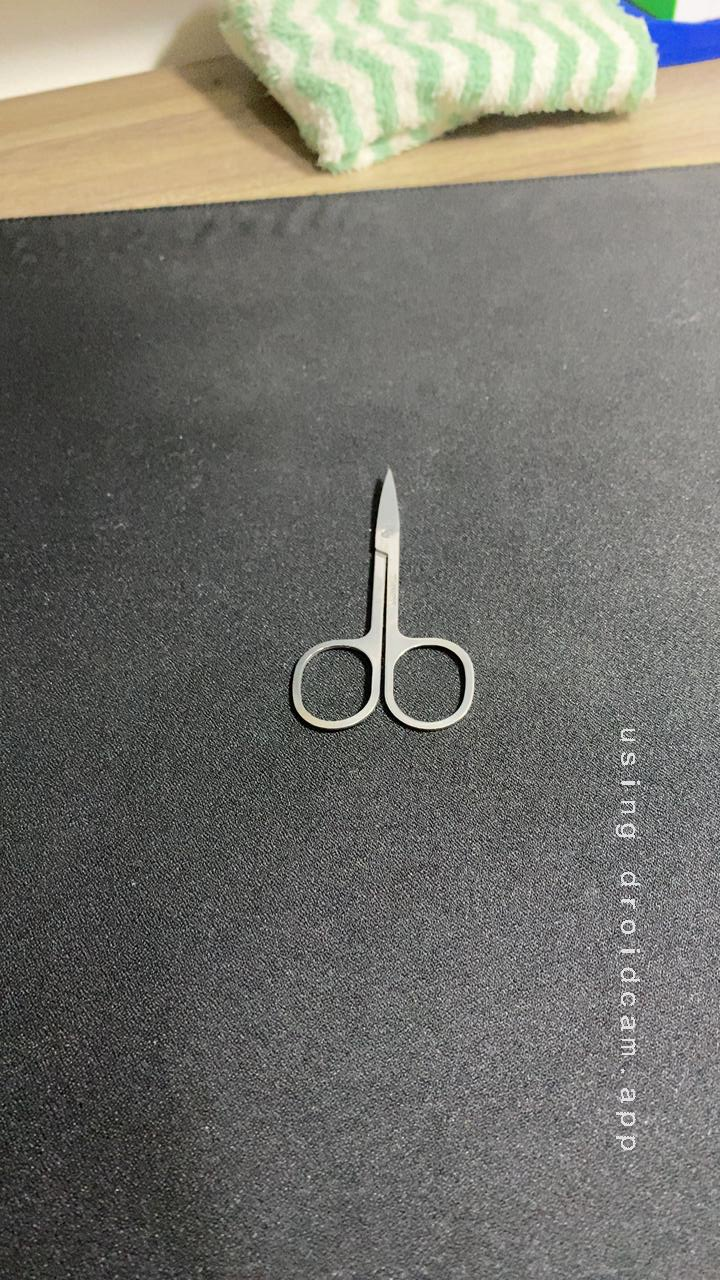scissor: (273, 452, 494, 746)
